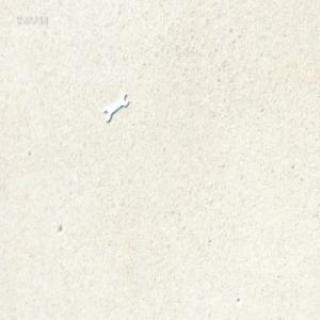Wrenchtrack_idkeyframe: (102, 93, 127, 123)
